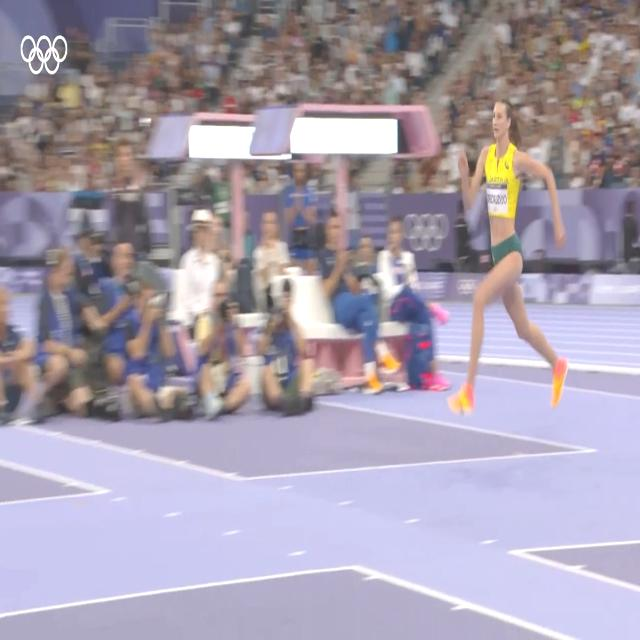run: (447, 96, 569, 418)
